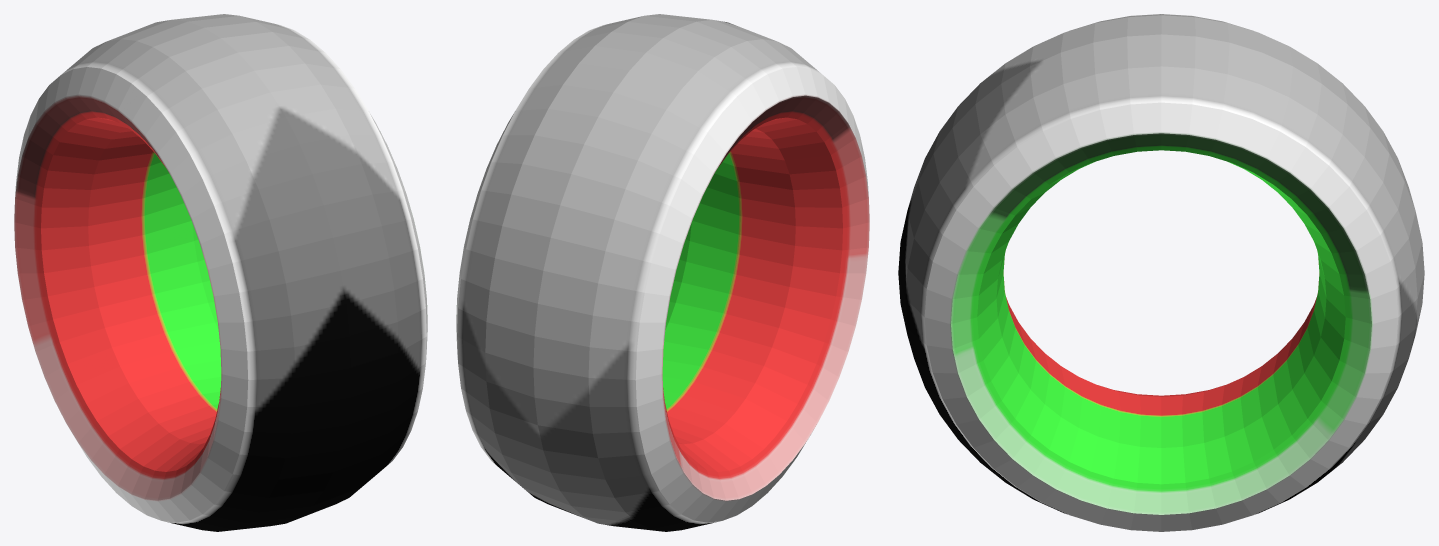
Rendered from Rolling.fbx.
The picture shows the model from 3 angles, left to right: view 1: azimuth 30°, elevation 25°; view 2: azimuth 150°, elevation 25°; view 3: azimuth 270°, elevation 25°; orthographic projection.
Visible parts, largest first — view 1: Torus; view 2: Torus; view 3: Torus.
Part boxes in pixels (<box>): Torus: <box>14,14,427,531</box>; Torus: <box>456,14,869,531</box>; Torus: <box>898,14,1424,531</box>.
Bounding box in the file's own units: 115 × 250 × 250.
1 material, 1 textured.
